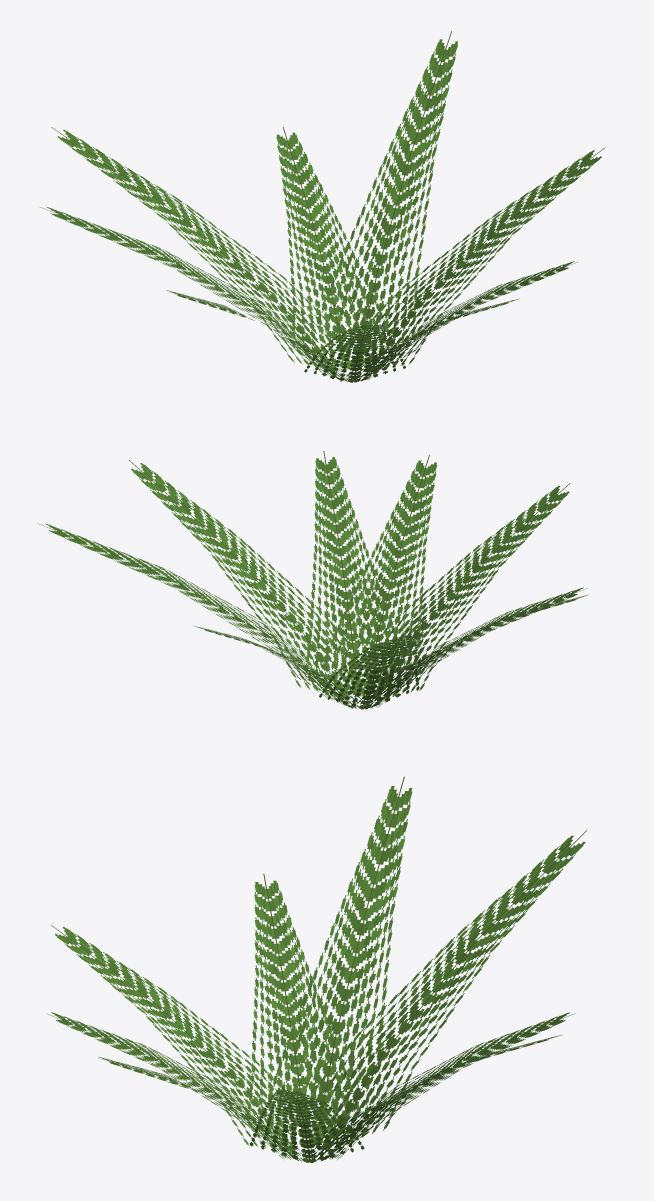
Rendered from flora_fern.glb.
The picture shows the model from 3 angles, top to bottom: view 1: azimuth 30°, elevation 25°; view 2: azimuth 150°, elevation 25°; view 3: azimuth 270°, elevation 25°; orthographic projection. The views are drawn at different scales.
Parts seen in each view (by area): view 1: flora_fern; view 2: flora_fern; view 3: flora_fern.
Boxes of the visible parts, bbox=[...] form: flora_fern: bbox=[40, 31, 605, 382]; flora_fern: bbox=[38, 451, 588, 709]; flora_fern: bbox=[46, 776, 586, 1162].
Bounding box in the file's own units: 2.16 × 0.8186 × 1.9.
1 material, 1 textured.
